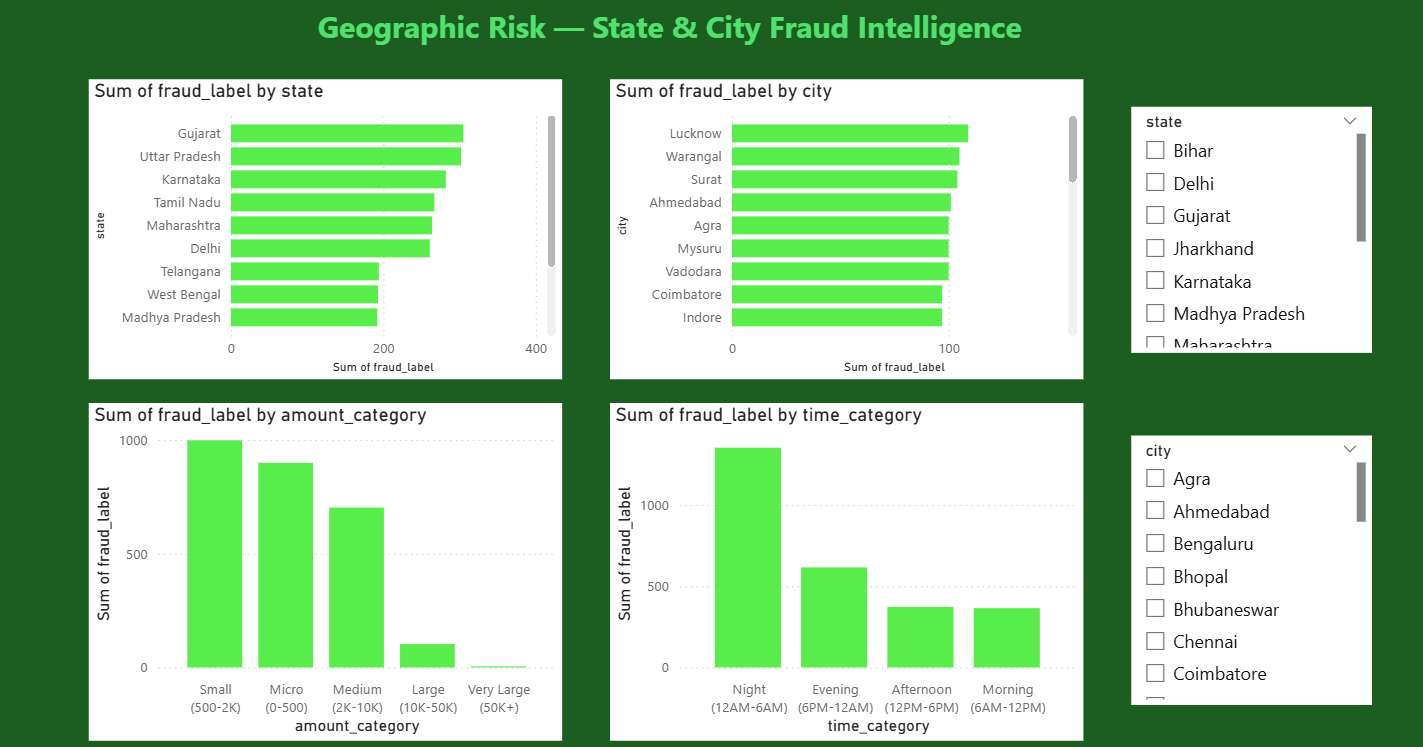

Layout of this report page (visuals, bound fields, positions):
{"tool":"powerbi","page":{"name":"Geographic Risk","canvas":[1280,720],"ordinal":2},"visuals":[{"type":"textbox","box":[238.8,46.7,734.1,49.4],"z":0},{"type":"clusteredBarChart","fields":{"Category":["india_payments_clean.state"],"Y":["Sum(india_payments_clean.fraud_label)"]},"box":[87.8,116.6,421.3,267.6],"z":1000},{"type":"clusteredBarChart","fields":{"Category":["india_payments_clean.city"],"Y":["Sum(india_payments_clean.fraud_label)"]},"box":[551.6,116.6,421.3,267.6],"z":2000},{"type":"clusteredColumnChart","fields":{"Category":["india_payments_clean.amount_category"],"Y":["Sum(india_payments_clean.fraud_label)"]},"box":[87.8,404.8,421.3,300.5],"z":3000},{"type":"clusteredColumnChart","fields":{"Category":["india_payments_clean.time_category"],"Y":["Sum(india_payments_clean.fraud_label)"]},"box":[551.6,404.8,421.3,300.5],"z":4000},{"type":"slicer","fields":{"Values":["india_payments_clean.state"]},"box":[1016.8,141.3,214.1,219.6],"z":5000},{"type":"slicer","fields":{"Values":["india_payments_clean.city"]},"box":[1016.8,433.6,214.1,240.1],"z":6000}]}

Visuals, with their boxes on the page's 1280x720 design canvas (x1, y1, x2, y2). These are canvas units, not pixel positions in the 1423x747 screenshot, which may show the page scaled, cropped or inside an application window:
textbox: locate(239, 47, 973, 96)
clusteredBarChart - india_payments_clean.state x Sum(india_payments_clean.fraud_label): locate(88, 117, 509, 384)
clusteredBarChart - india_payments_clean.city x Sum(india_payments_clean.fraud_label): locate(552, 117, 973, 384)
clusteredColumnChart - india_payments_clean.amount_category x Sum(india_payments_clean.fraud_label): locate(88, 405, 509, 705)
clusteredColumnChart - india_payments_clean.time_category x Sum(india_payments_clean.fraud_label): locate(552, 405, 973, 705)
slicer - india_payments_clean.state: locate(1017, 141, 1231, 361)
slicer - india_payments_clean.city: locate(1017, 434, 1231, 674)
